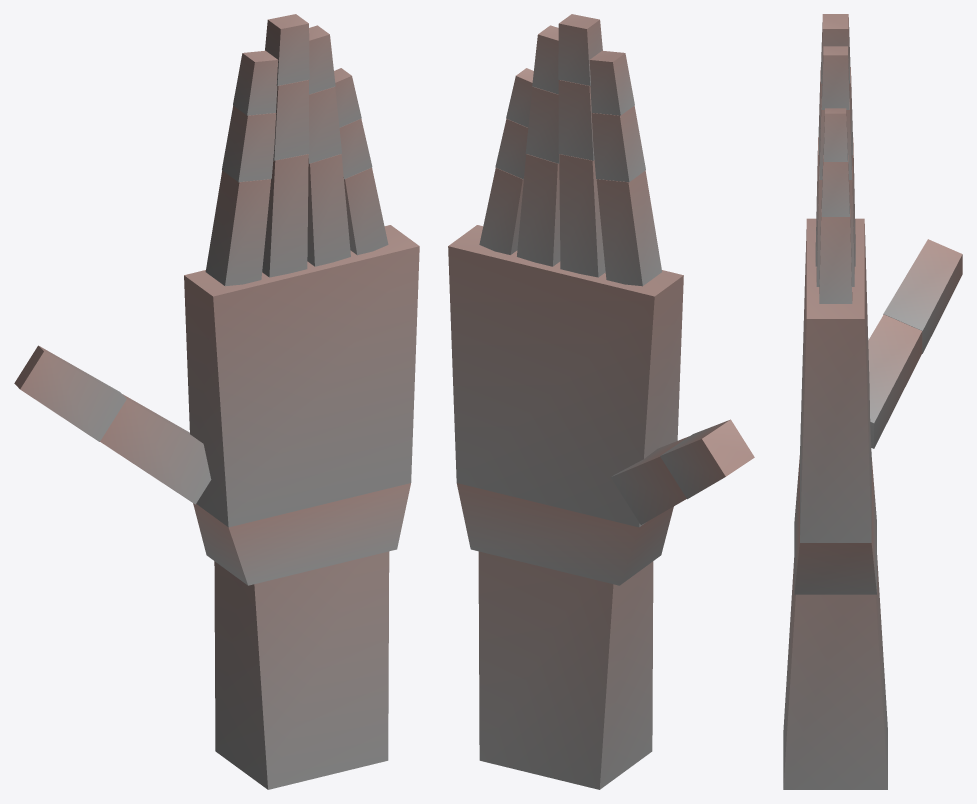
File: Asset_HandRight.fbx
3 views of the same model, side by side, from view 1: azimuth 30°, elevation 25°; view 2: azimuth 150°, elevation 25°; view 3: azimuth 270°, elevation 25° (orthographic).
Parts seen in each view (by area): view 1: Palm_Mesh, Forearm_Mesh, PalmHeel_Mesh, ThumbProximal_Mesh, IndexProximal_Mesh, ThumbDistal_Mesh, MiddleProximal_Mesh, RingProximal_Mesh, IndexIntermediate_Mesh, LittleProximal_Mesh, MiddleDistal_Mesh, MiddleIntermediate_Mesh (+5 smaller); view 2: Palm_Mesh, Forearm_Mesh, PalmHeel_Mesh, IndexProximal_Mesh, MiddleProximal_Mesh, ThumbDistal_Mesh, RingProximal_Mesh, IndexIntermediate_Mesh, ThumbProximal_Mesh, LittleProximal_Mesh, MiddleIntermediate_Mesh, MiddleDistal_Mesh (+5 smaller); view 3: Forearm_Mesh, Palm_Mesh, PalmHeel_Mesh, ThumbDistal_Mesh, ThumbProximal_Mesh, LittleProximal_Mesh, RingDistal_Mesh, LittleIntermediate_Mesh, LittleDistal_Mesh, MiddleDistal_Mesh, RingProximal_Mesh, RingIntermediate_Mesh (+2 smaller).
Boxes of the visible parts, x1,y1,x2,y2 form: Palm_Mesh: (184,225,419,527); Forearm_Mesh: (214,551,389,789); PalmHeel_Mesh: (193,483,410,585); ThumbProximal_Mesh: (100,394,211,504); IndexProximal_Mesh: (205,170,270,286); ThumbDistal_Mesh: (14,345,126,441); MiddleProximal_Mesh: (262,154,308,277); RingProximal_Mesh: (307,154,350,266); IndexIntermediate_Mesh: (222,105,276,182); LittleProximal_Mesh: (344,167,388,255); MiddleDistal_Mesh: (265,14,309,85); MiddleIntermediate_Mesh: (273,80,309,160); Palm_Mesh: (448,225,683,527); Forearm_Mesh: (478,551,653,789); PalmHeel_Mesh: (456,483,673,585); IndexProximal_Mesh: (596,170,661,286); MiddleProximal_Mesh: (559,154,605,277); ThumbDistal_Mesh: (660,419,754,499); RingProximal_Mesh: (517,154,560,266); IndexIntermediate_Mesh: (591,106,645,182); ThumbProximal_Mesh: (611,436,689,524); LittleProximal_Mesh: (479,168,523,254); MiddleIntermediate_Mesh: (558,80,594,160); MiddleDistal_Mesh: (558,14,602,85); Forearm_Mesh: (783,555,887,789); Palm_Mesh: (800,218,871,542); PalmHeel_Mesh: (794,455,876,594); ThumbDistal_Mesh: (883,239,962,353); ThumbProximal_Mesh: (868,314,922,448); LittleProximal_Mesh: (819,209,852,303); RingDistal_Mesh: (821,46,849,109); LittleIntermediate_Mesh: (821,155,849,216); LittleDistal_Mesh: (823,108,847,161); MiddleDistal_Mesh: (821,14,850,83); RingProximal_Mesh: (816,166,854,286); RingIntermediate_Mesh: (819,99,851,179).
Size of the model in its own units: 0.1409 by 0.2937 by 0.065.
